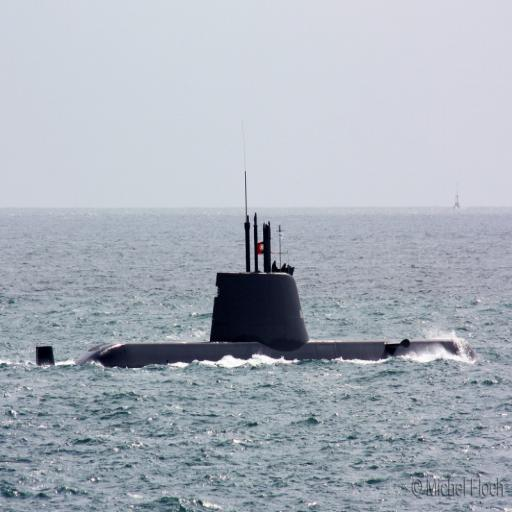submarine: (2, 205, 482, 361)
